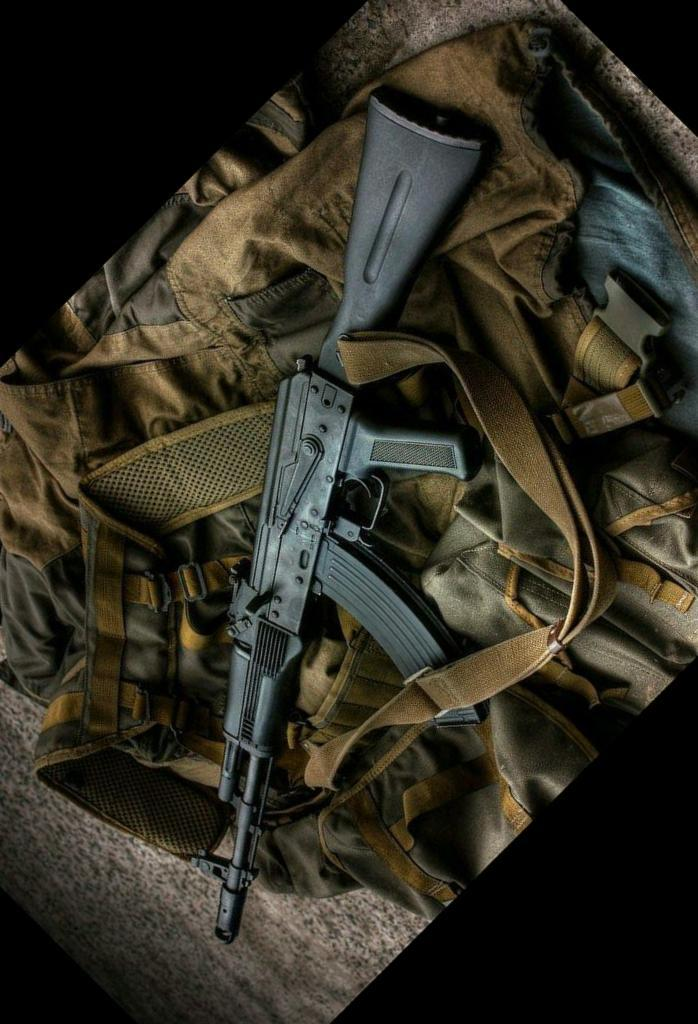larga: (207, 83, 496, 944)
